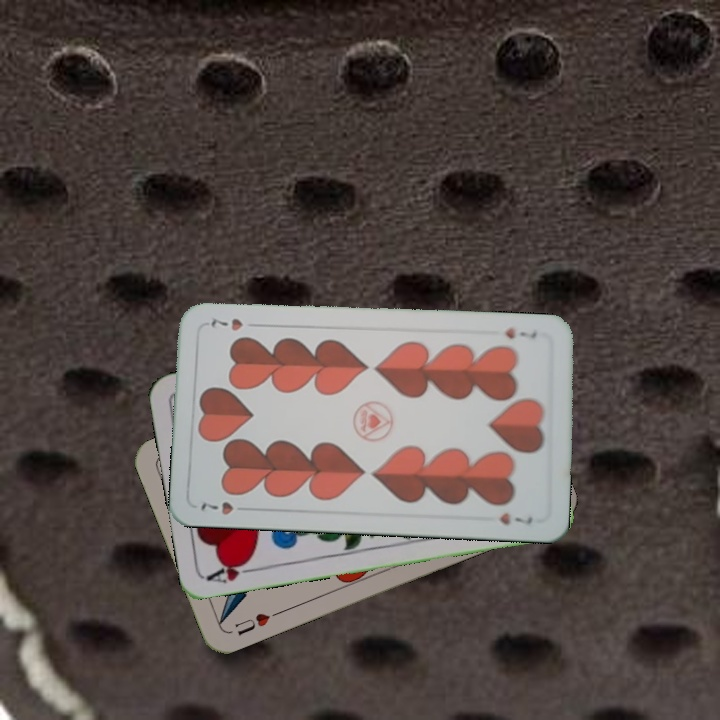H7: (196, 497, 253, 518), (501, 323, 539, 342)
HA: (204, 555, 263, 586)
HU: (231, 607, 283, 639)
